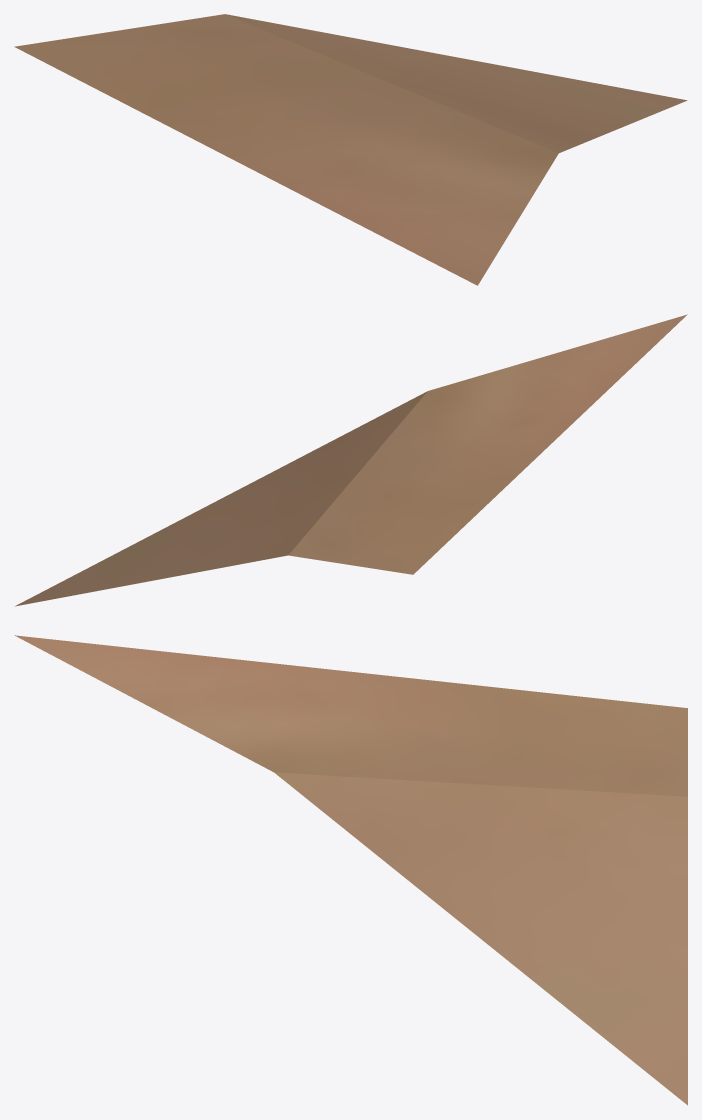
3 views of the same model, one above another, from view 1: azimuth 30°, elevation 25°; view 2: azimuth 150°, elevation 25°; view 3: azimuth 270°, elevation 25° (orthographic). The views are drawn at different scales.
Size of the model in its own units: 0.1671 by 0.0754 by 0.1991.
Materials: 1 (1 with a texture image).
